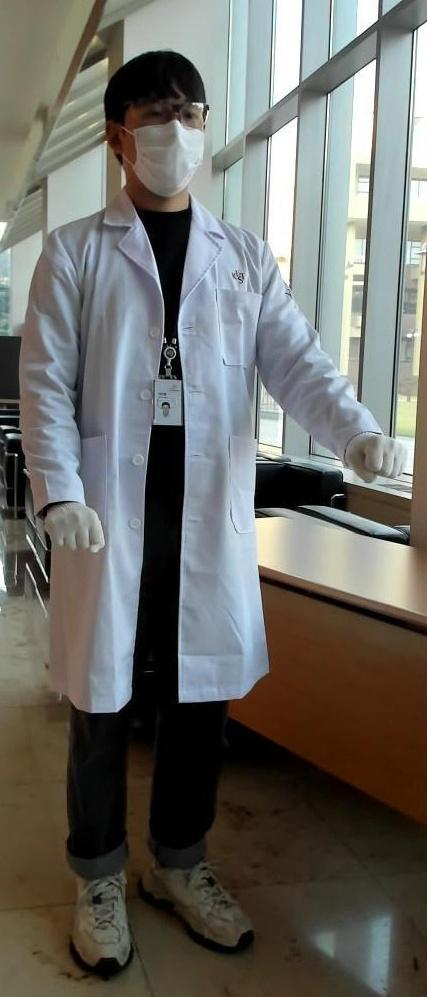lab_coat: (95, 230, 282, 697)
